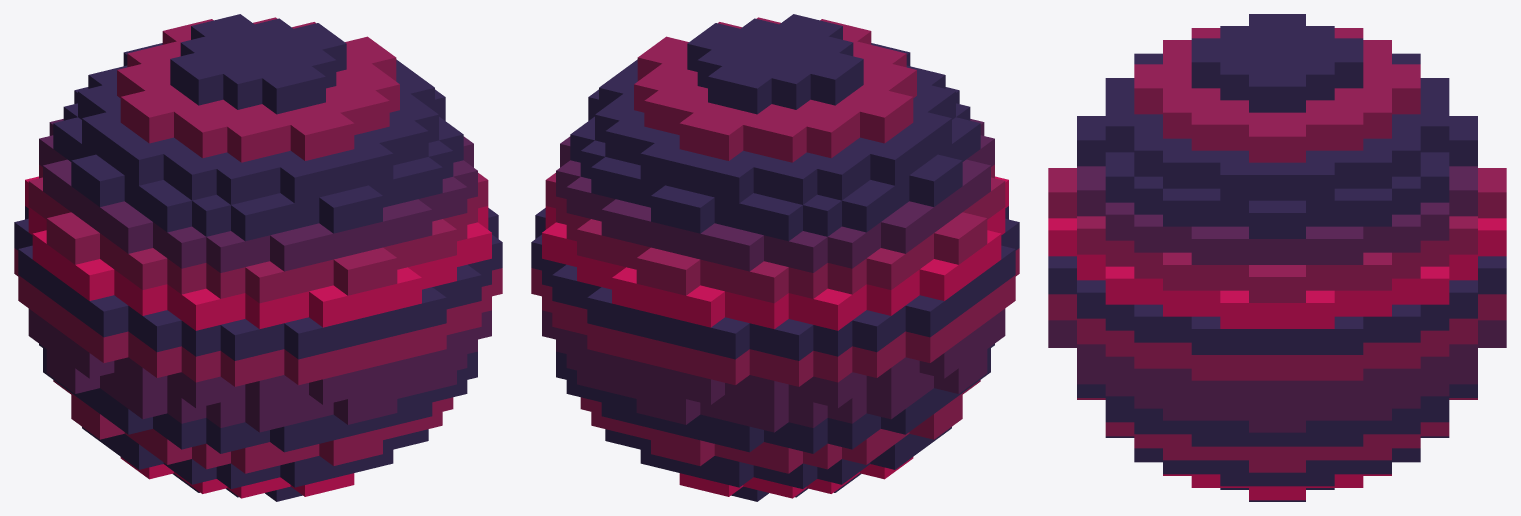
Rendered from planetas-16-rosalistrado.obj.
3 renders of one model, left to right at view 1: azimuth 30°, elevation 25°; view 2: azimuth 150°, elevation 25°; view 3: azimuth 270°, elevation 25°, orthographic.
Size of the model in its own units: 1.6 by 1.6 by 1.6.
Materials: 1 (1 with a texture image).
